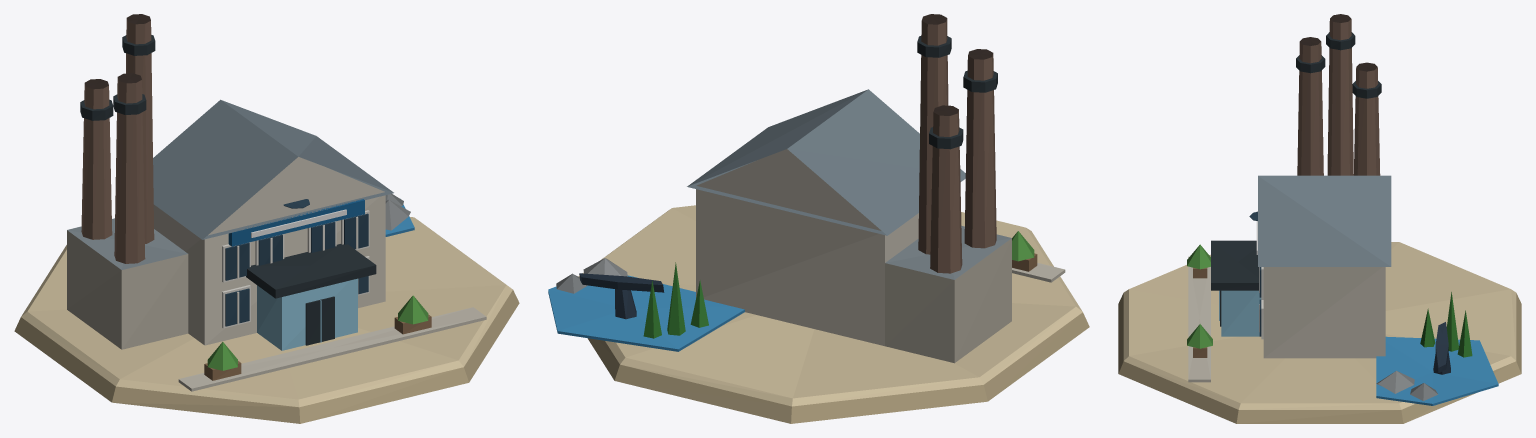
The model's file is aquarium.glb.
3 renders of one model, left to right at view 1: azimuth 30°, elevation 25°; view 2: azimuth 150°, elevation 25°; view 3: azimuth 270°, elevation 25°, orthographic. The views are drawn at different scales.
Size of the model in its own units: 42.87 by 31.9 by 42.87.
